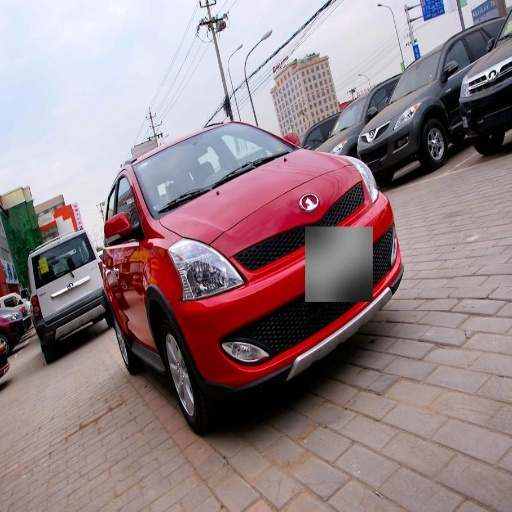front_bumper: (179, 225, 372, 389)
front_glass: (149, 131, 274, 214)
front_right_light: (171, 239, 241, 297)
